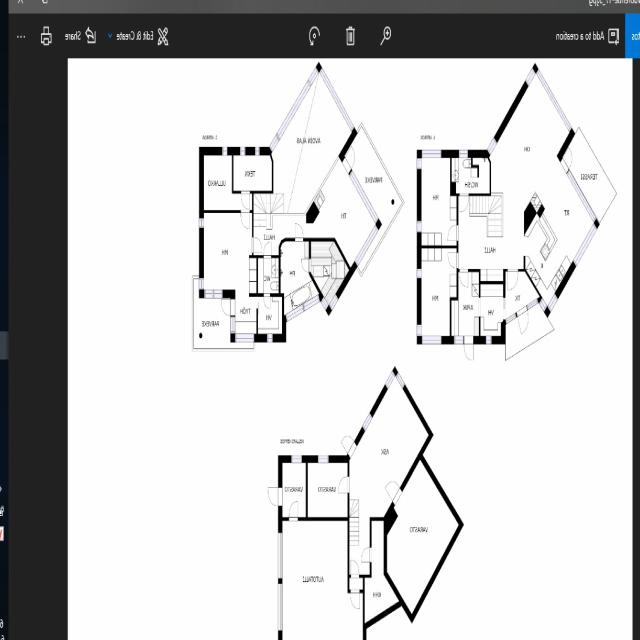door: (384, 474, 402, 505), (516, 305, 532, 335), (342, 146, 358, 174), (560, 147, 576, 174), (342, 429, 357, 456), (221, 299, 235, 316), (464, 336, 473, 361), (269, 488, 282, 505), (508, 269, 518, 290), (350, 590, 360, 609), (459, 193, 469, 212), (240, 210, 250, 229), (338, 476, 349, 493), (288, 502, 298, 520), (241, 190, 250, 208), (448, 252, 458, 268), (448, 225, 458, 241), (351, 560, 359, 578), (295, 223, 303, 241), (362, 548, 372, 562), (252, 238, 262, 252), (460, 269, 468, 286), (301, 259, 311, 272), (264, 242, 271, 258), (264, 293, 270, 308)
